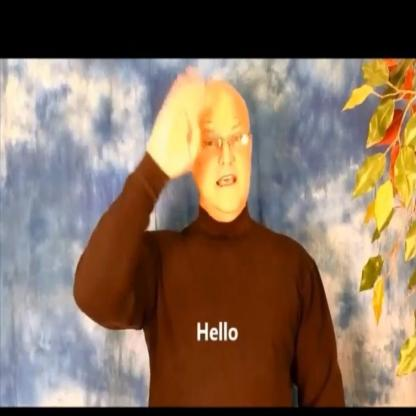Hello: (126, 63, 276, 257)
